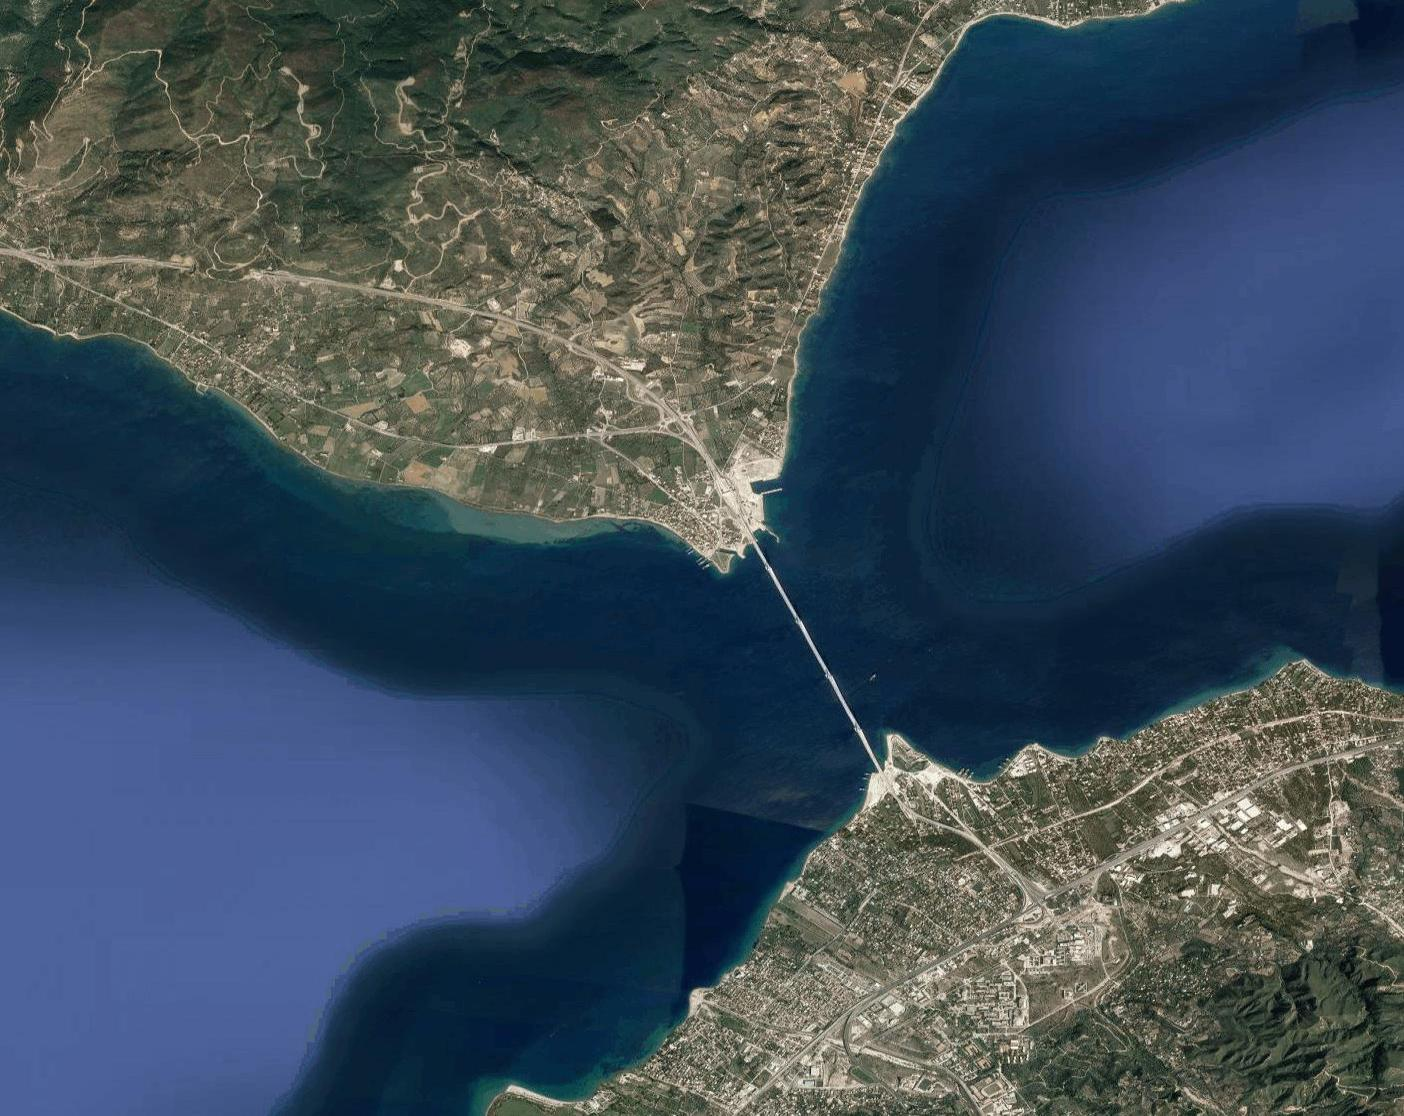bridge: (754, 538, 880, 771)
motorway: (806, 634, 875, 761), (742, 518, 805, 635), (587, 349, 686, 421), (457, 306, 589, 357), (680, 418, 748, 519), (312, 277, 455, 311), (153, 262, 305, 286), (1, 246, 152, 270)
